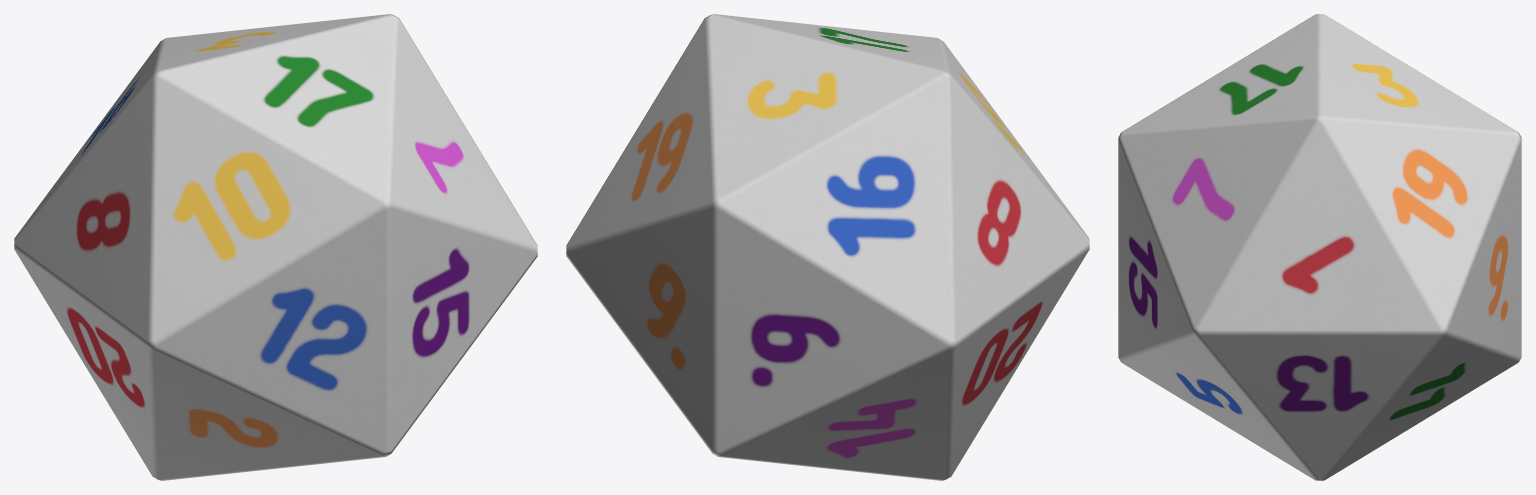
Rendered from d20_rainbow.glb.
3 views of the same model, side by side, from view 1: azimuth 30°, elevation 25°; view 2: azimuth 150°, elevation 25°; view 3: azimuth 270°, elevation 25° (orthographic). The views are drawn at different scales.
Parts seen in each view (by area): view 1: D20_COLOUR; view 2: D20_COLOUR; view 3: D20_COLOUR.
Part boxes in pixels (left/top/right/bottom): D20_COLOUR: left=14, top=14, right=537, bottom=480; D20_COLOUR: left=566, top=14, right=1089, bottom=480; D20_COLOUR: left=1118, top=14, right=1521, bottom=480.
Size of the model in its own units: 169 by 169 by 169.
Materials: 1 (1 with a texture image).
